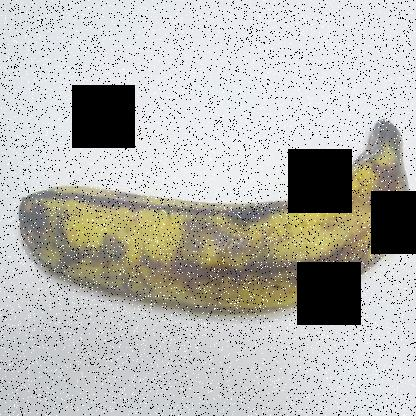overripe: (7, 98, 414, 342)
